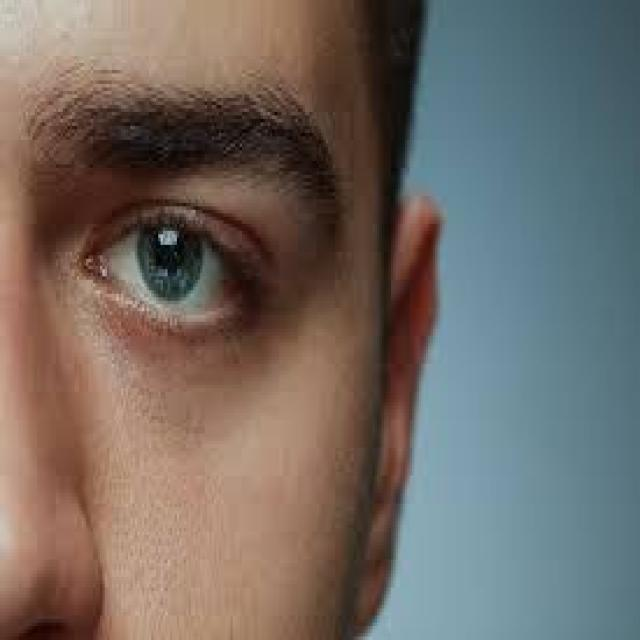Normal: (0, 157, 347, 480)
